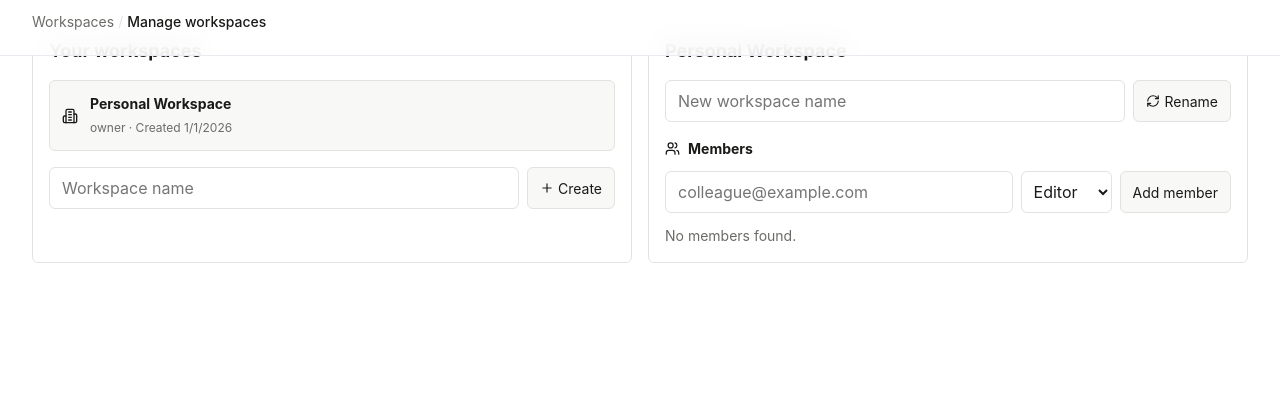
Test: WorkspacesPage › shows a server error when the requested member cannot be added
This screenshot has width=1280, height=394.
Check: the heading "Personal Workspace" is shown, box x1=665 y1=40 x2=847 y2=61
Type "missing@example.com" into the field named "Member email".
click(839, 192); type("missing@example.com")  # box x1=665 y1=171 x2=1013 y2=213
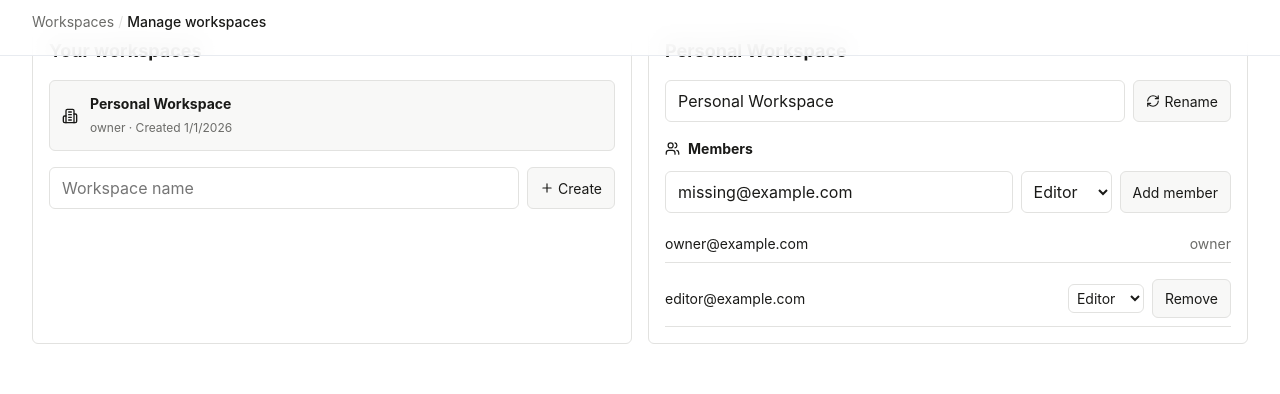
Click the button "Add member".
click(1175, 192)  # box x1=1120 y1=171 x2=1231 y2=213
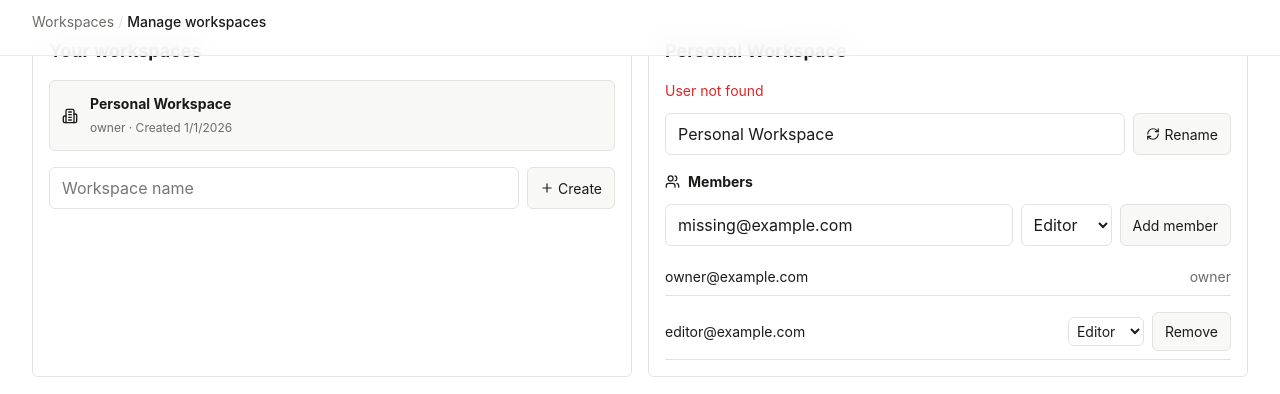
Check: the message reads "User not found", box x1=665 y1=82 x2=764 y2=99
